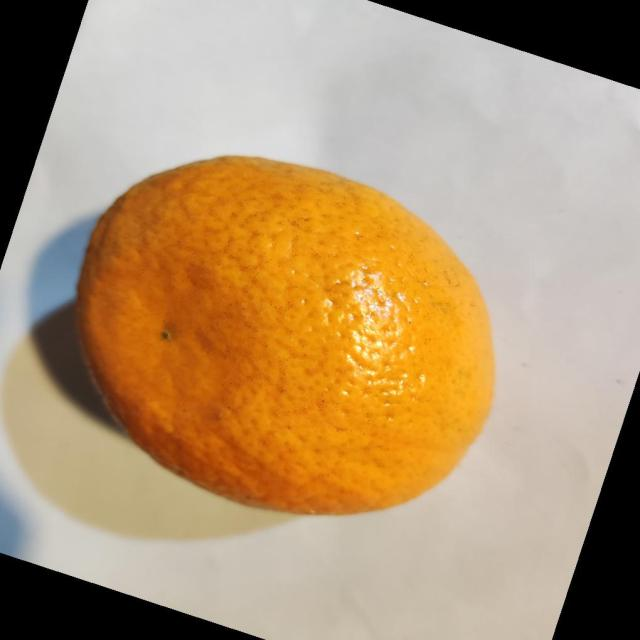fresh orange: (75, 153, 496, 516)
